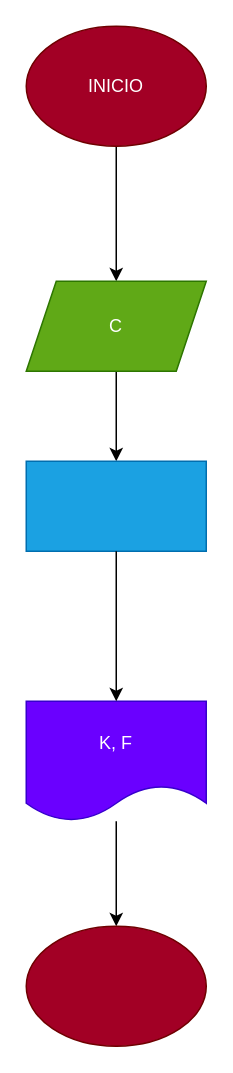
Some shapes in this 233 by 1073 pixel diagram are drawn without their labels. The centre of each missing label's shape, as x and y in pixels:
"FIN" goes at (x=115, y=985).
"K= °C + 273.15 F= (°C * 9/5) + 32" goes at (x=115, y=505).
